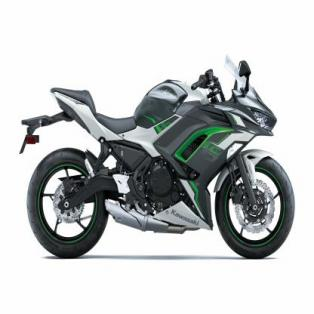Motocicleta: (15, 48, 298, 260)
